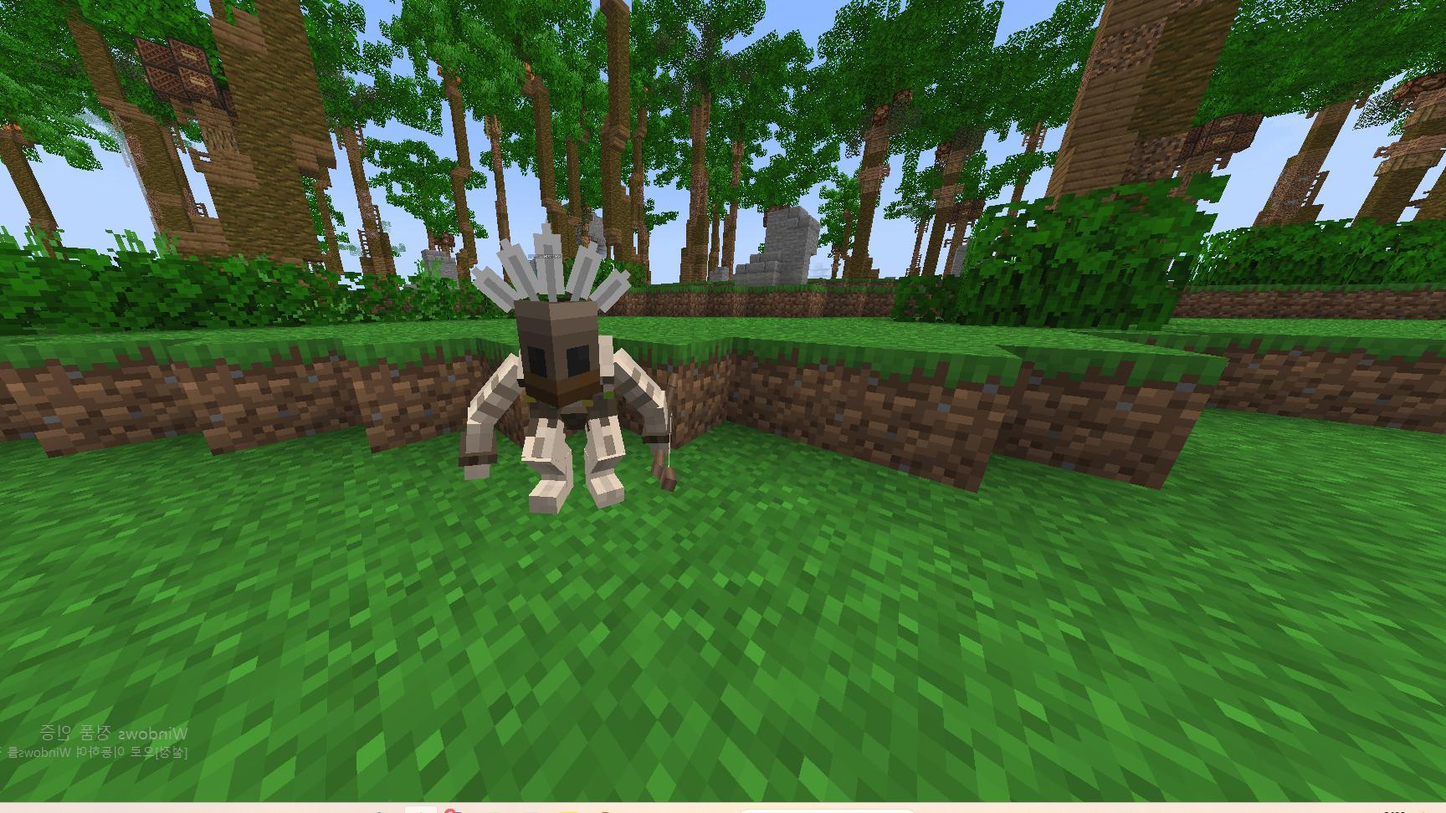bow_indian: (391, 239, 716, 552)
